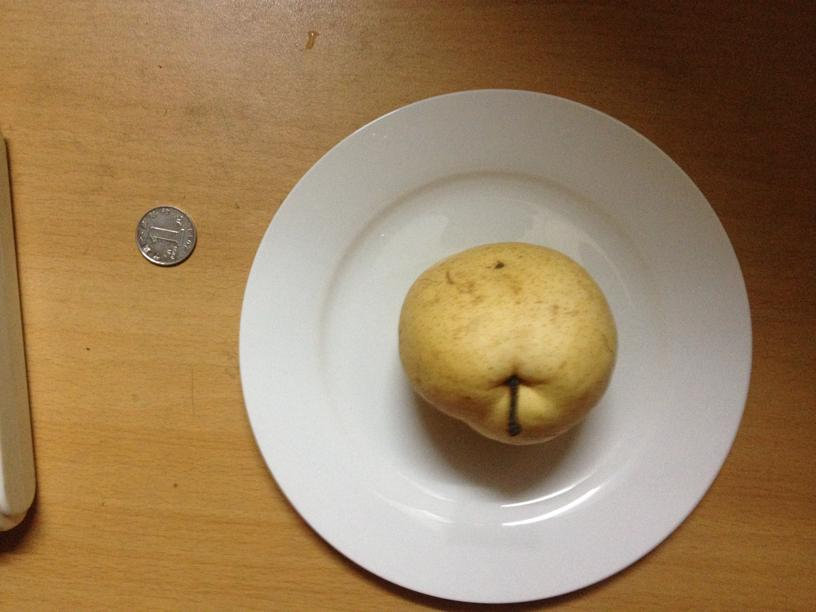coin: (134, 201, 198, 267)
pear: (397, 245, 616, 446)
